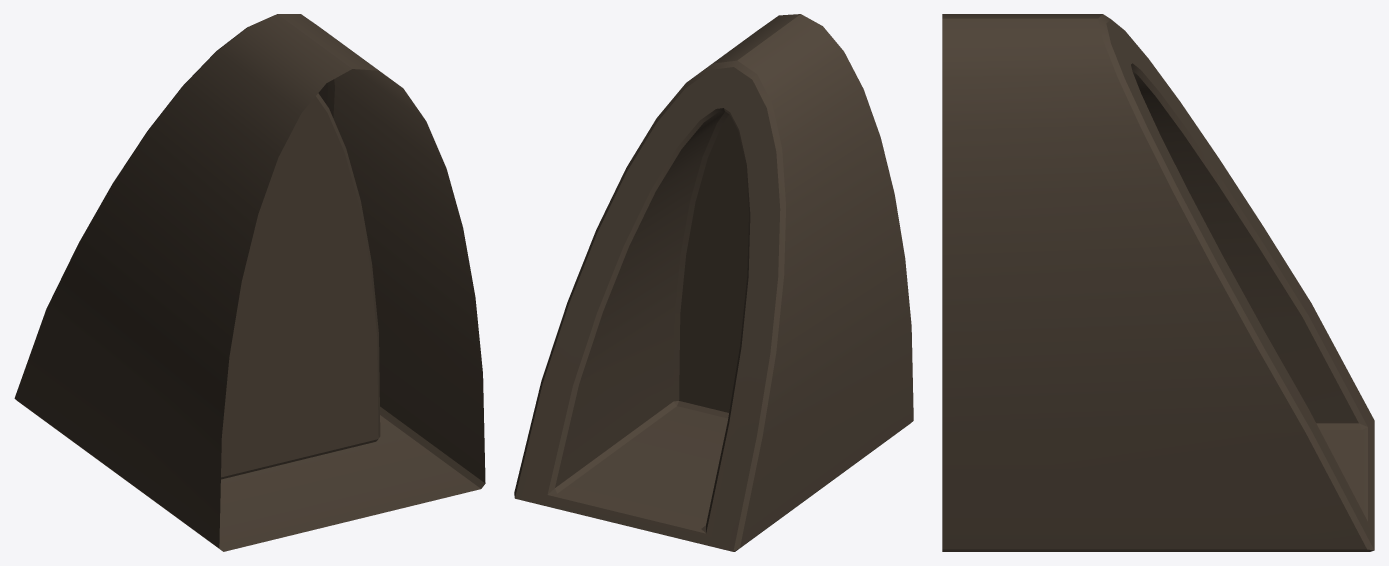
The model's file is Furnace01.fbx.
The picture shows the model from 3 angles, left to right: view 1: azimuth 30°, elevation 25°; view 2: azimuth 150°, elevation 25°; view 3: azimuth 270°, elevation 25°; orthographic projection. The views are drawn at different scales.
Parts seen in each view (by area): view 1: Cylinder.005; view 2: Cylinder.005; view 3: Cylinder.005.
Part boxes in pixels (bbox=[...]): Cylinder.005: bbox=[14, 14, 485, 551]; Cylinder.005: bbox=[514, 14, 913, 551]; Cylinder.005: bbox=[942, 14, 1374, 551].
Bounding box in the file's own units: 6255 × 10142 × 8485.
